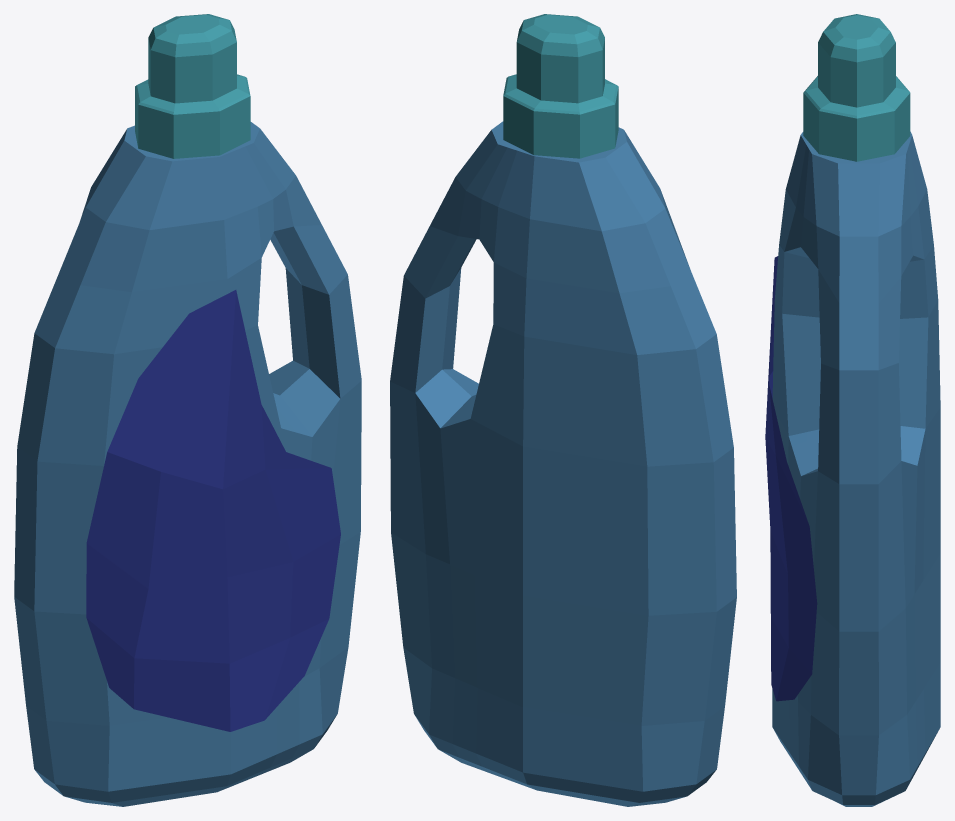
Rendered from Ma_Detergent_Big_2.fbx.
3 views of the same model, side by side, from view 1: azimuth 30°, elevation 25°; view 2: azimuth 150°, elevation 25°; view 3: azimuth 270°, elevation 25° (orthographic). The views are drawn at different scales.
Parts seen in each view (by area): view 1: Ma_Detergent_Big_2; view 2: Ma_Detergent_Big_2; view 3: Ma_Detergent_Big_2.
Boxes of the visible parts, x1=… form: Ma_Detergent_Big_2: x1=14, y1=14, x2=361, y2=806; Ma_Detergent_Big_2: x1=390, y1=14, x2=736, y2=806; Ma_Detergent_Big_2: x1=765, y1=14, x2=940, y2=806.
Size of the model in its own units: 158 by 74.65 by 343.
